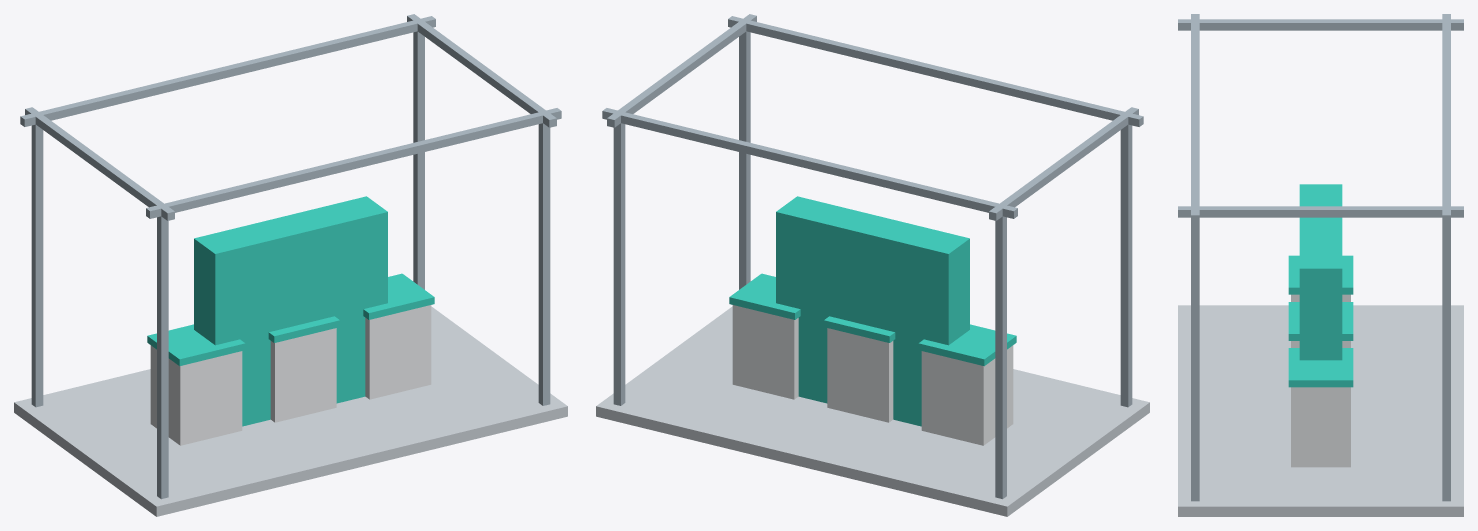
3 views of the same model, side by side, from view 1: azimuth 30°, elevation 25°; view 2: azimuth 150°, elevation 25°; view 3: azimuth 270°, elevation 25° (orthographic).
Parts seen in each view (by area): view 1: Exhibition Booth Concept; view 2: Exhibition Booth Concept; view 3: Exhibition Booth Concept.
Boxes of the visible parts, box(x1,y1,x2,y2) form: Exhibition Booth Concept: box(14, 14, 567, 516); Exhibition Booth Concept: box(596, 14, 1149, 516); Exhibition Booth Concept: box(1178, 14, 1463, 516).
Bounding box in the file's own units: 5 × 3.49 × 3.
